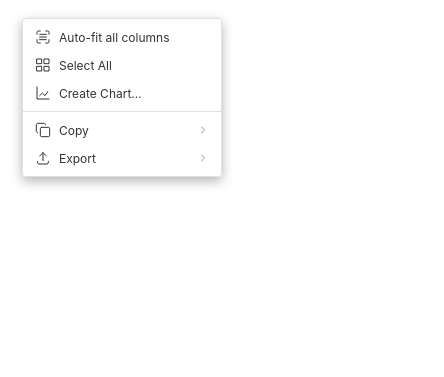
ExportMenu › shows Export submenu on hover
Hover over the element with test id "export-submenu-container" showing "Export" at x=122, y=158, box x1=23 y1=144 x2=221 y2=172
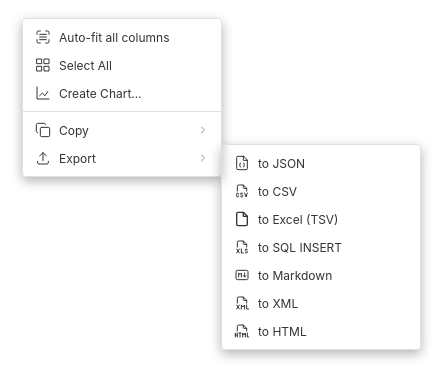
Now the element with test id "export-submenu" is shown, box x1=221 y1=144 x2=421 y2=350
